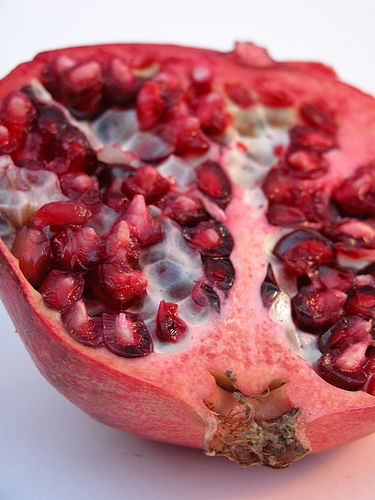pomogranate: (0, 38, 373, 470)
